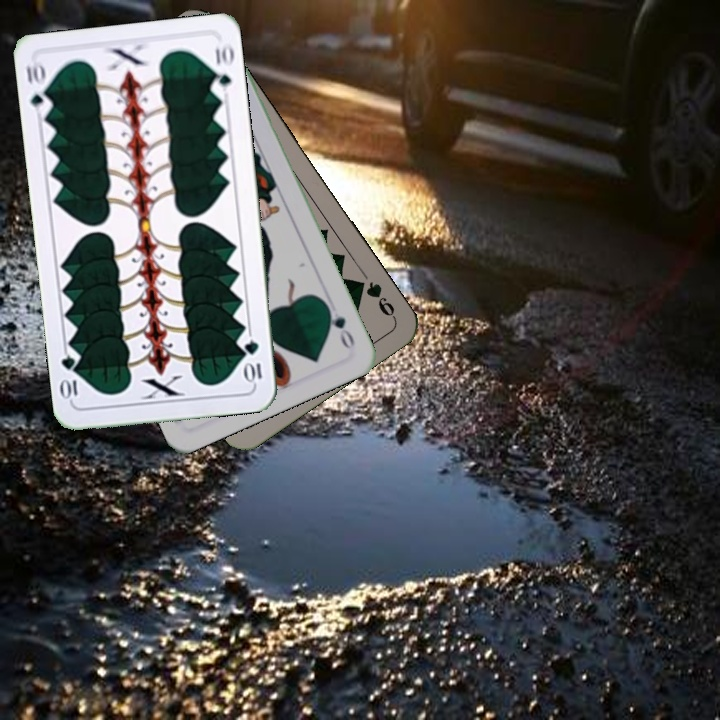G10: (22, 59, 54, 117), (240, 336, 264, 386)
G9: (351, 276, 398, 321)
GO: (321, 299, 358, 353)
